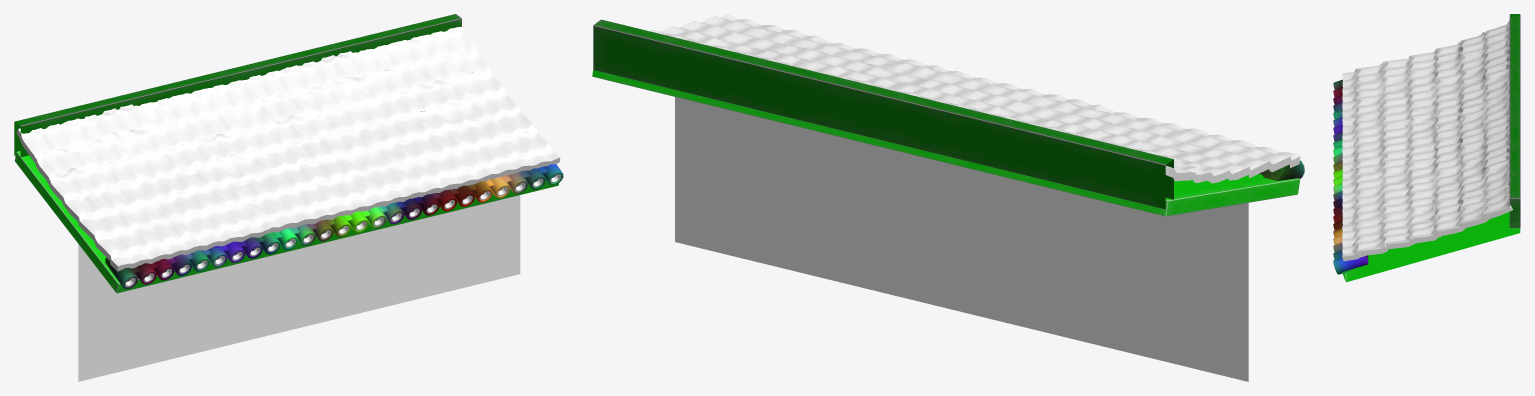
The model's file is roof_fenced_400_01.fbx.
3 renders of one model, left to right at view 1: azimuth 30°, elevation 25°; view 2: azimuth 150°, elevation 25°; view 3: azimuth 270°, elevation 25°, orthographic. The views are drawn at different scales.
Visible parts, largest first — view 1: roof_fenced_400_01; view 2: roof_fenced_400_01; view 3: roof_fenced_400_01.
Boxes of the visible parts, x1=… form: roof_fenced_400_01: x1=14, y1=14, x2=563, y2=381; roof_fenced_400_01: x1=592, y1=14, x2=1304, y2=381; roof_fenced_400_01: x1=1333, y1=14, x2=1520, y2=282.
Bounding box in the file's own units: 4 × 1.85 × 1.71.
